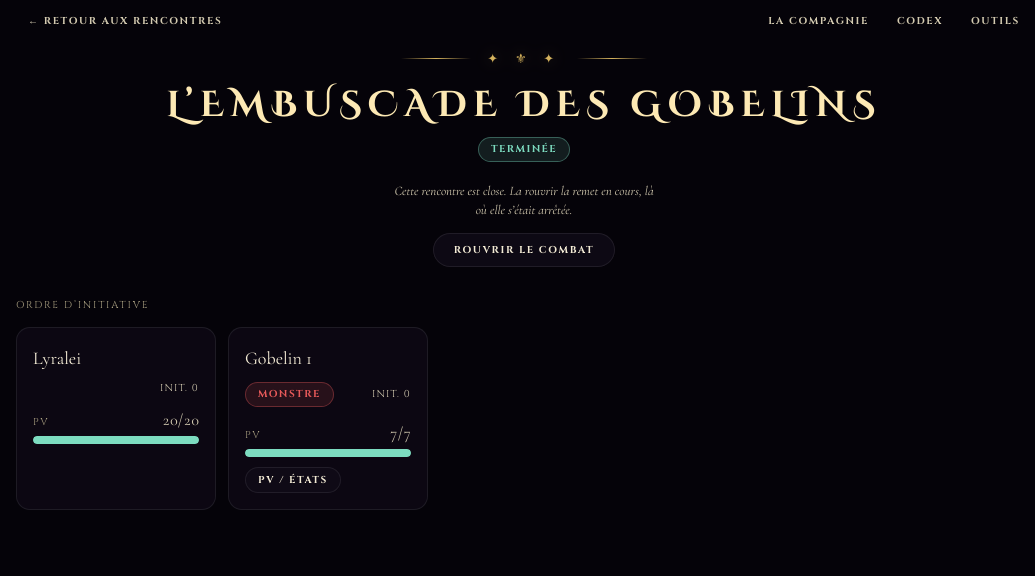
Test: <EncounterScreen> — cycle de vie réparable (M7) › une réouverture refusée (autre combat actif) affiche le message dédié
Click the button "Rouvrir le combat" at (524, 250), box [433, 232, 615, 266]
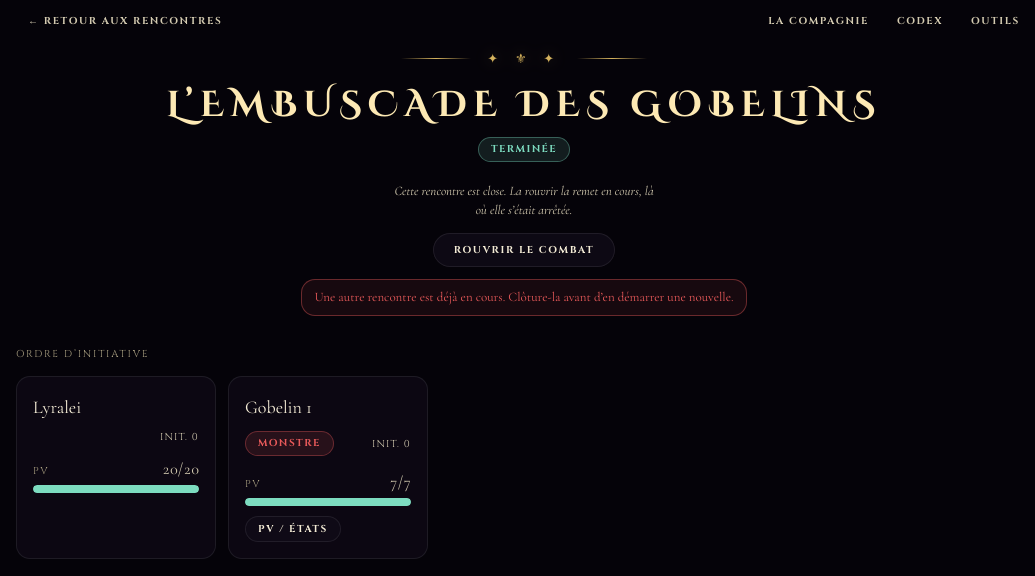
expect the message shows "Une autre rencontre est déjà en cours. Clôture-la avant d’en démarrer une nouvelle.": met, box [314, 288, 734, 304]
